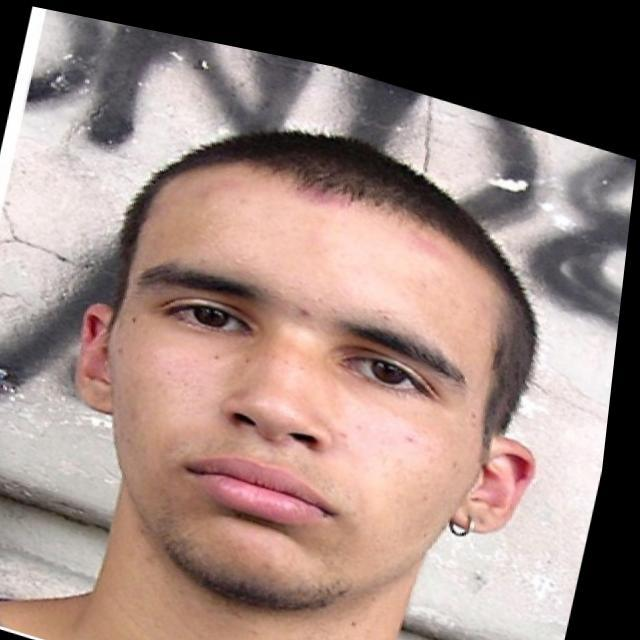Nonhelmet: (69, 129, 540, 622)
